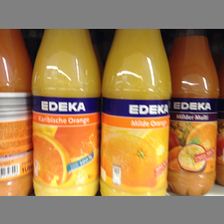juice: (100, 30, 172, 195), (30, 30, 100, 195), (168, 29, 218, 195)
